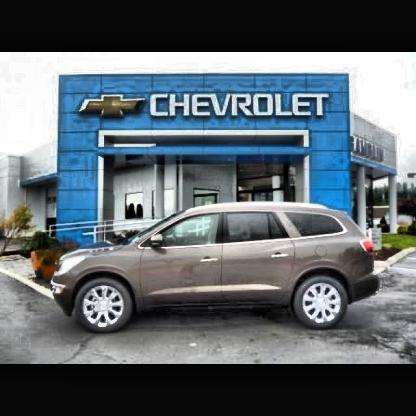Buick Enclave SUV 2012: (51, 202, 383, 334)
